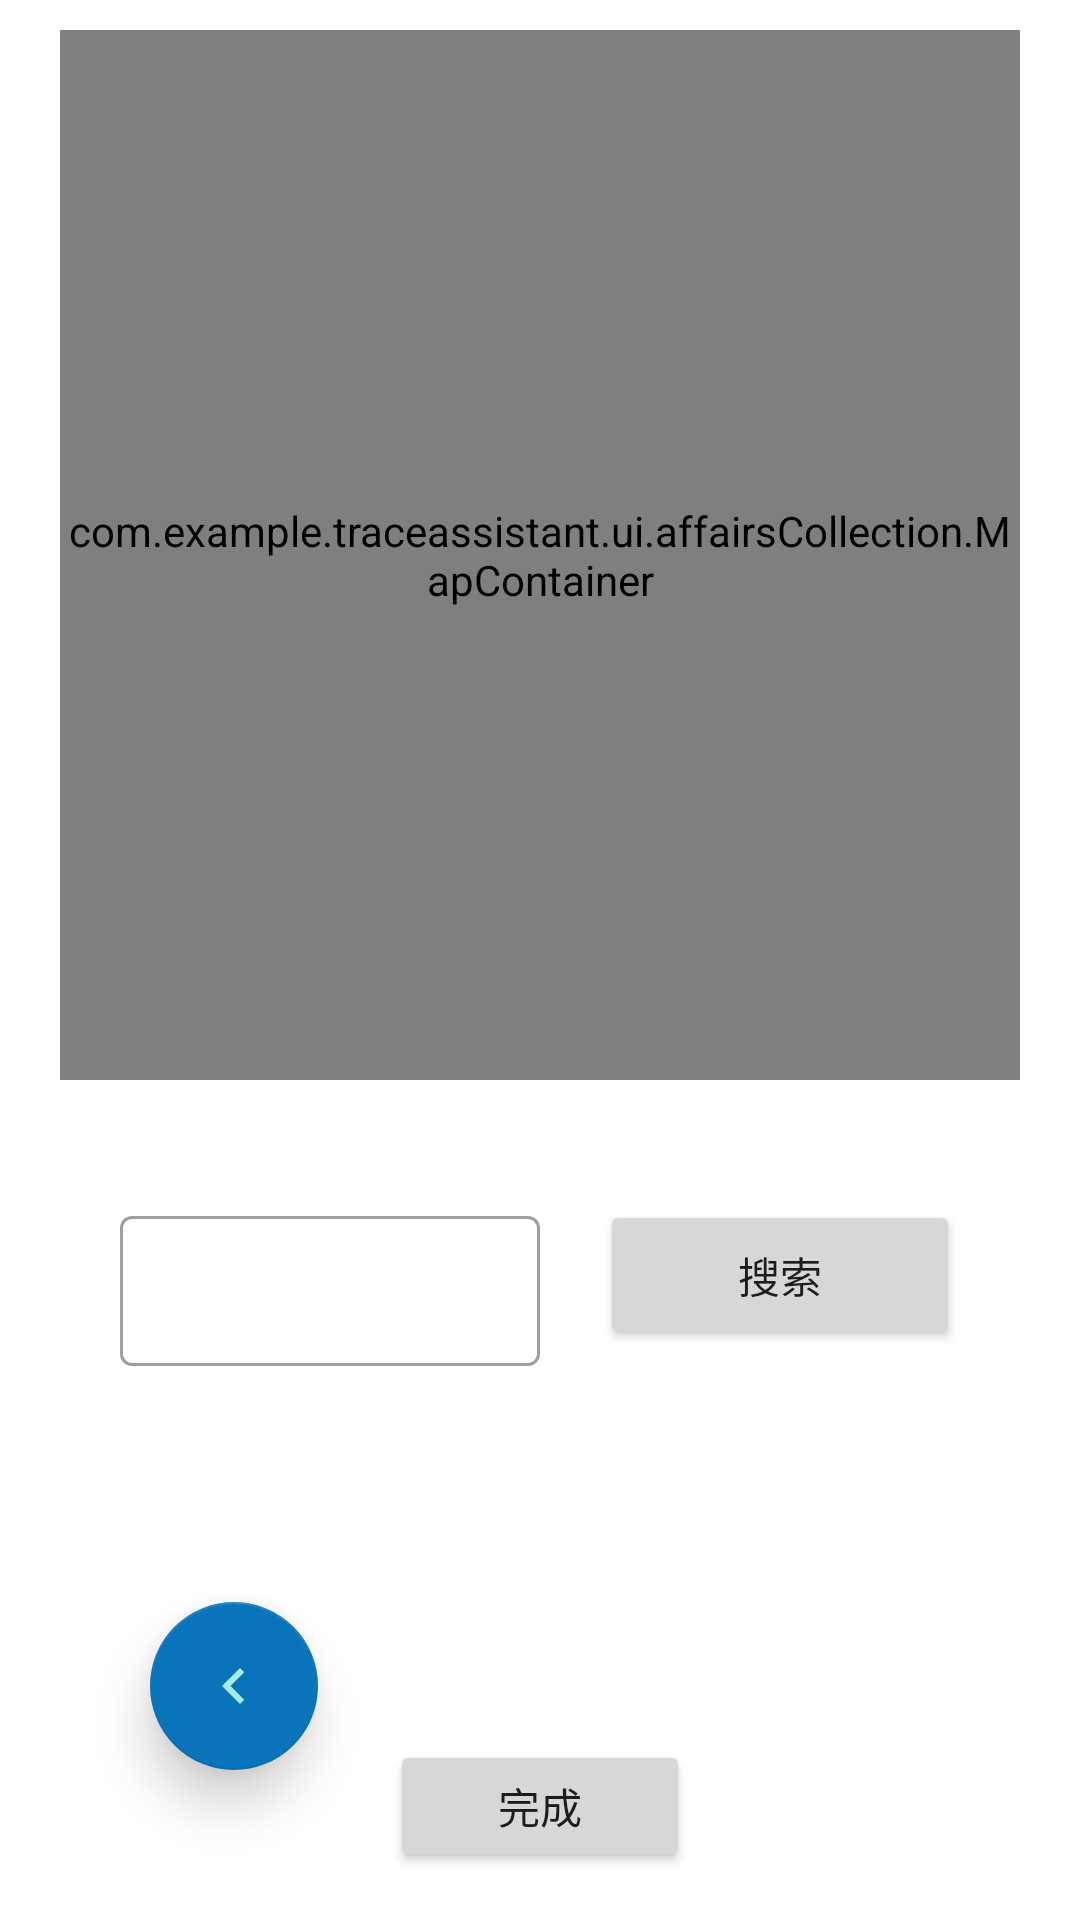

Where to tap for icons on this 1080*1920 app screen, as (x,y):
chevron left: (234,1686)
